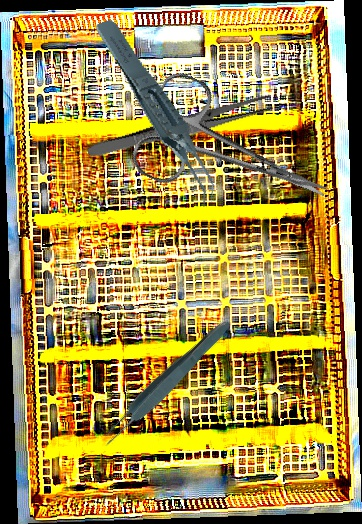Dressing Forceps: (85, 92, 276, 164)
Iris Scissors: (126, 67, 346, 246)
Tissue Forceps: (93, 5, 220, 222), (94, 313, 237, 452)
